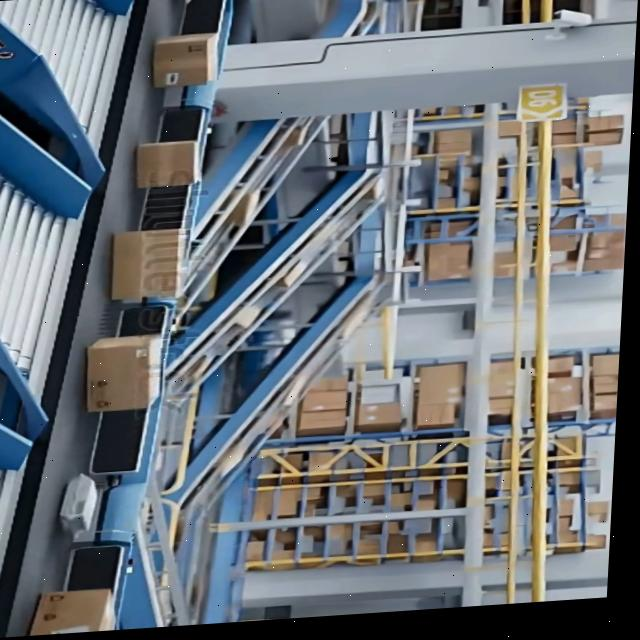product 1: (83, 331, 165, 412), (109, 226, 190, 301), (151, 36, 220, 88), (134, 138, 201, 188)
